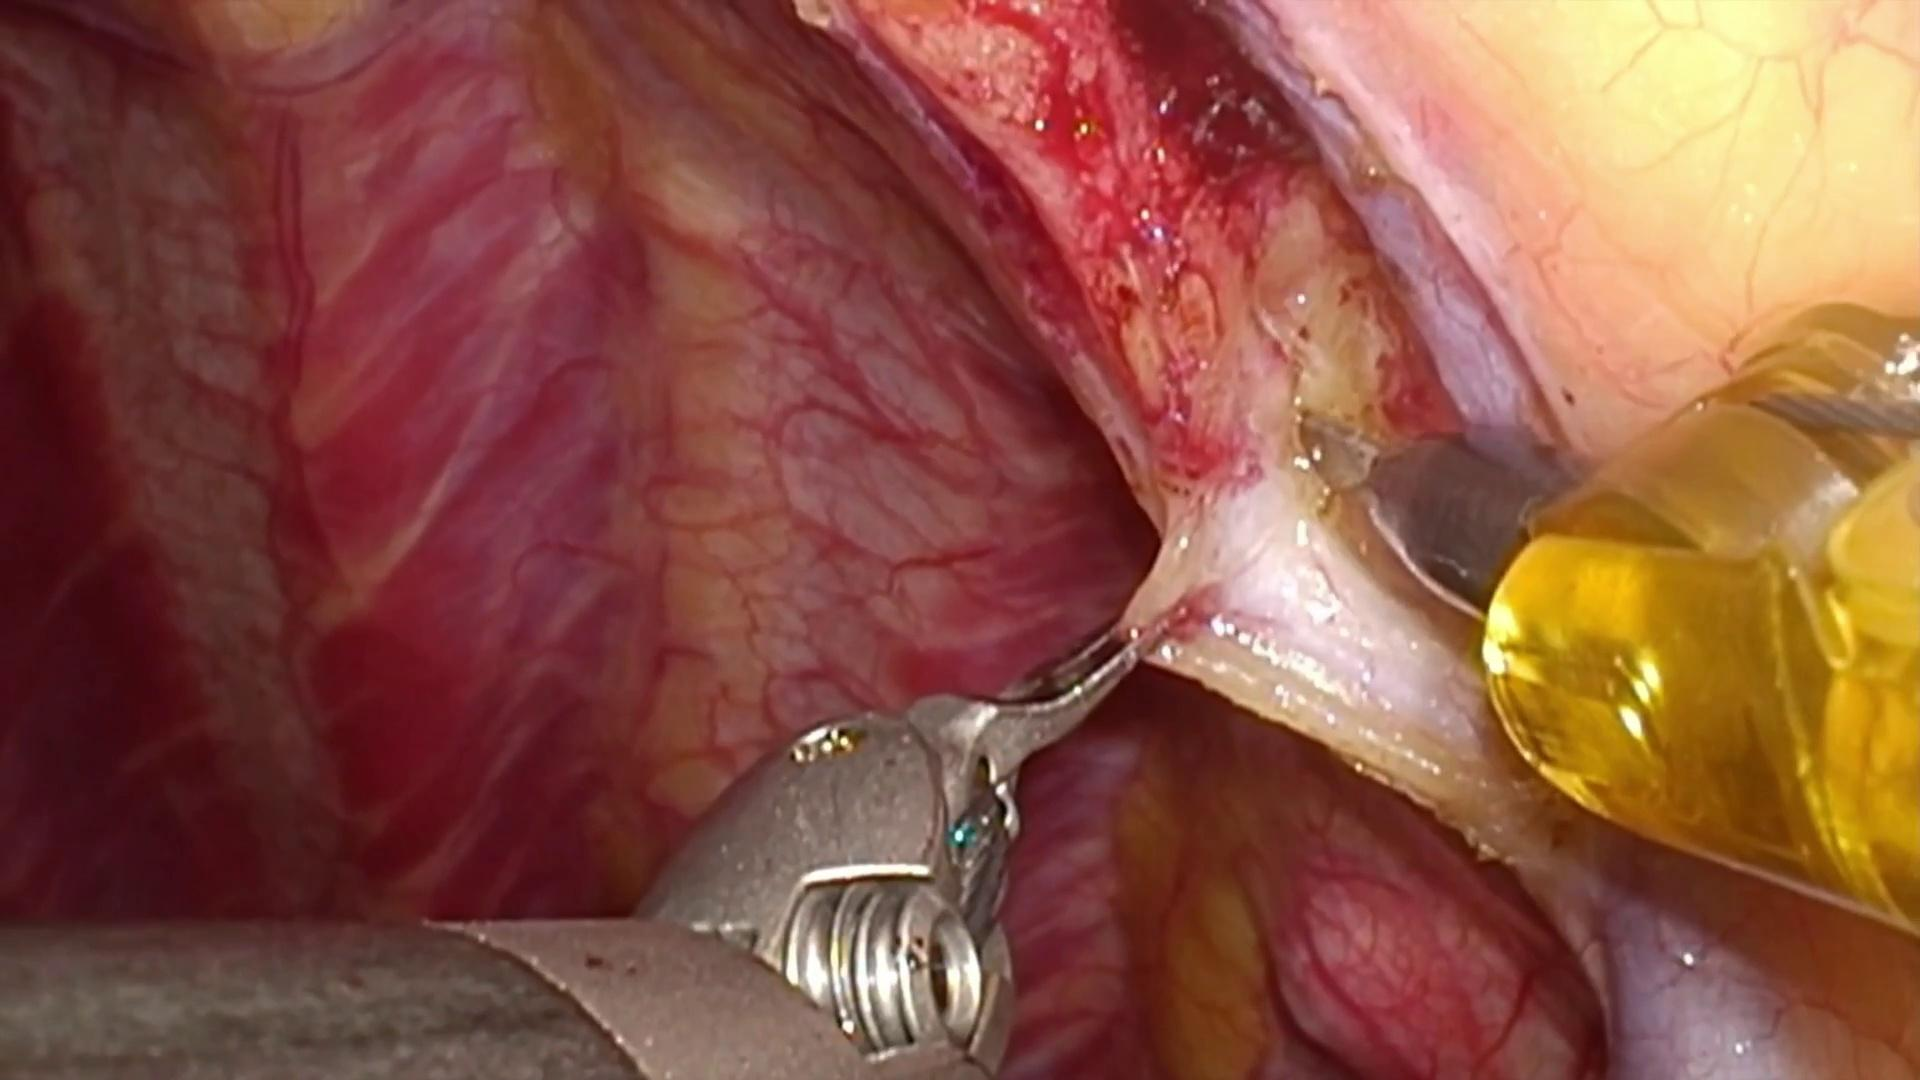Cautery_Spatula: (1288, 406, 1588, 622)
Debakey: (906, 626, 1154, 828)
